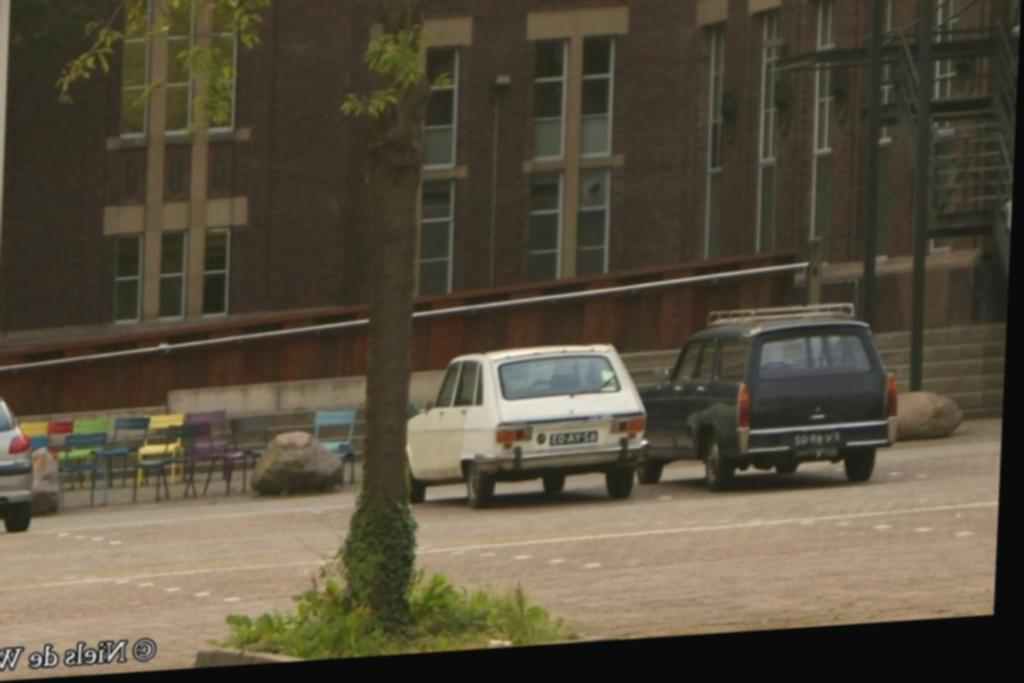License_Plate: (551, 430, 601, 447)
